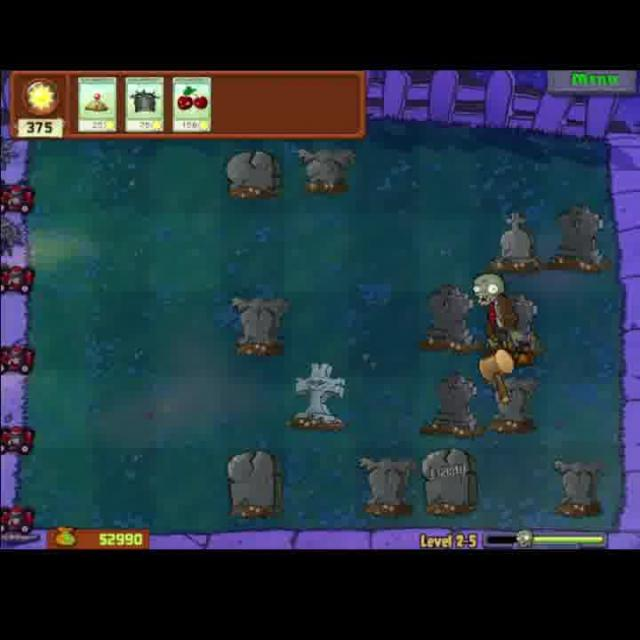coins: (470, 270, 524, 358)
